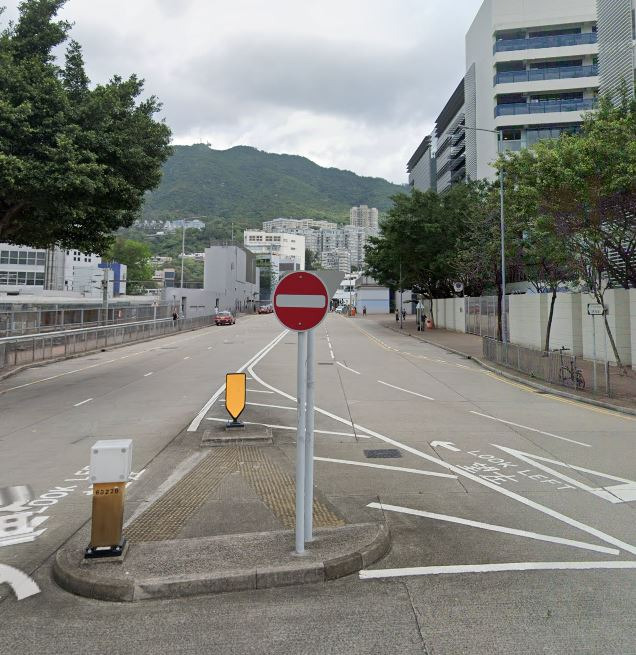No Enter: (275, 270, 330, 329)
